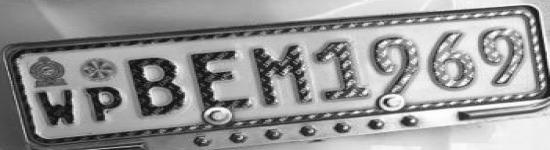1: (313, 36, 370, 104)
6: (427, 30, 479, 94)
9: (370, 33, 423, 100), (476, 24, 525, 89)
B: (127, 54, 187, 119)
E: (188, 44, 253, 113)
M: (253, 41, 317, 108)
P: (82, 85, 124, 123)
W: (33, 86, 78, 128)
